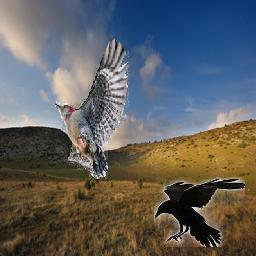Crow: (155, 177, 246, 247)
Woodpecker: (55, 37, 129, 180)
